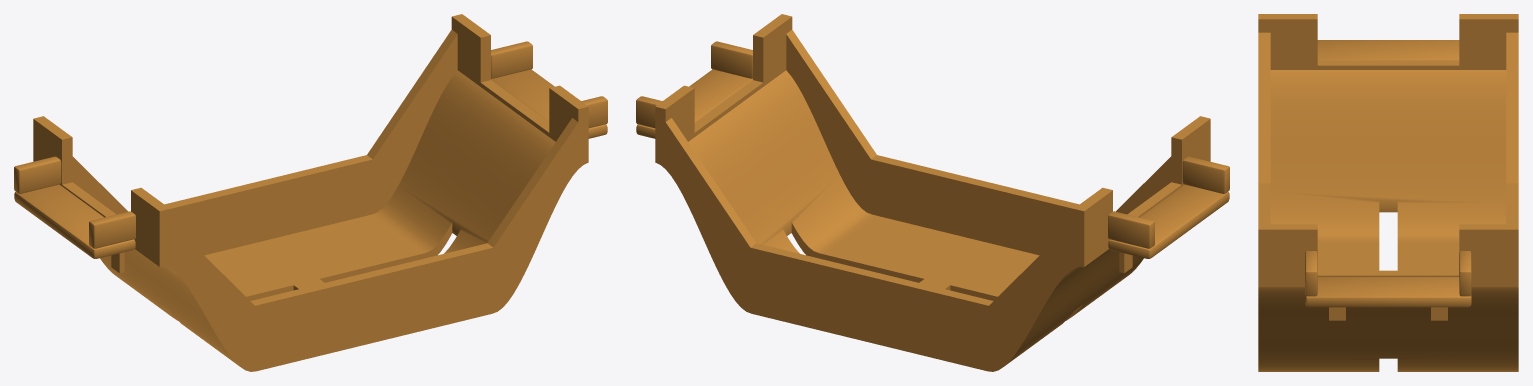
The picture shows the model from 3 angles, left to right: view 1: azimuth 30°, elevation 25°; view 2: azimuth 150°, elevation 25°; view 3: azimuth 270°, elevation 25°; orthographic projection. The views are drawn at different scales.
Parts seen in each view (by area): view 1: M-07; view 2: M-07; view 3: M-07.
Part boxes in pixels (x1,y1,x2,y2): M-07: [14, 14, 607, 371]; M-07: [636, 14, 1229, 371]; M-07: [1258, 14, 1518, 371].
Bounding box in the file's own units: 0.108 × 0.0368 × 0.046.
